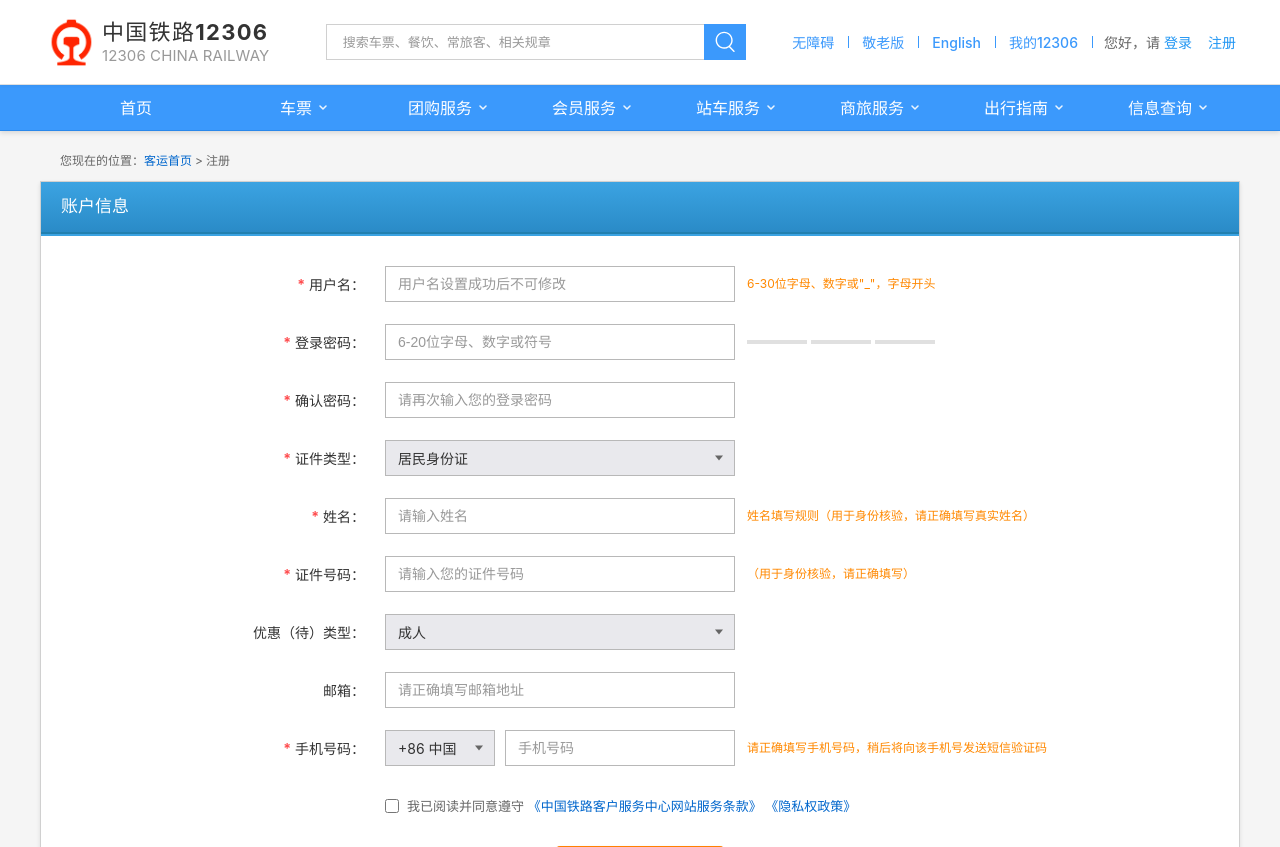
跨组件交互：注册表单验证流程 › 密码字段验证 (需求 3.2.2) › 应该在密码长度小于6位时显示错误提示
expect the text "账户信息" is shown: met, box [41,182,1239,234]
Type "123" into the password field with placeholder "6-20位字母、数字或符号".
click(560, 342); type("123")  # box [385,324,735,360]
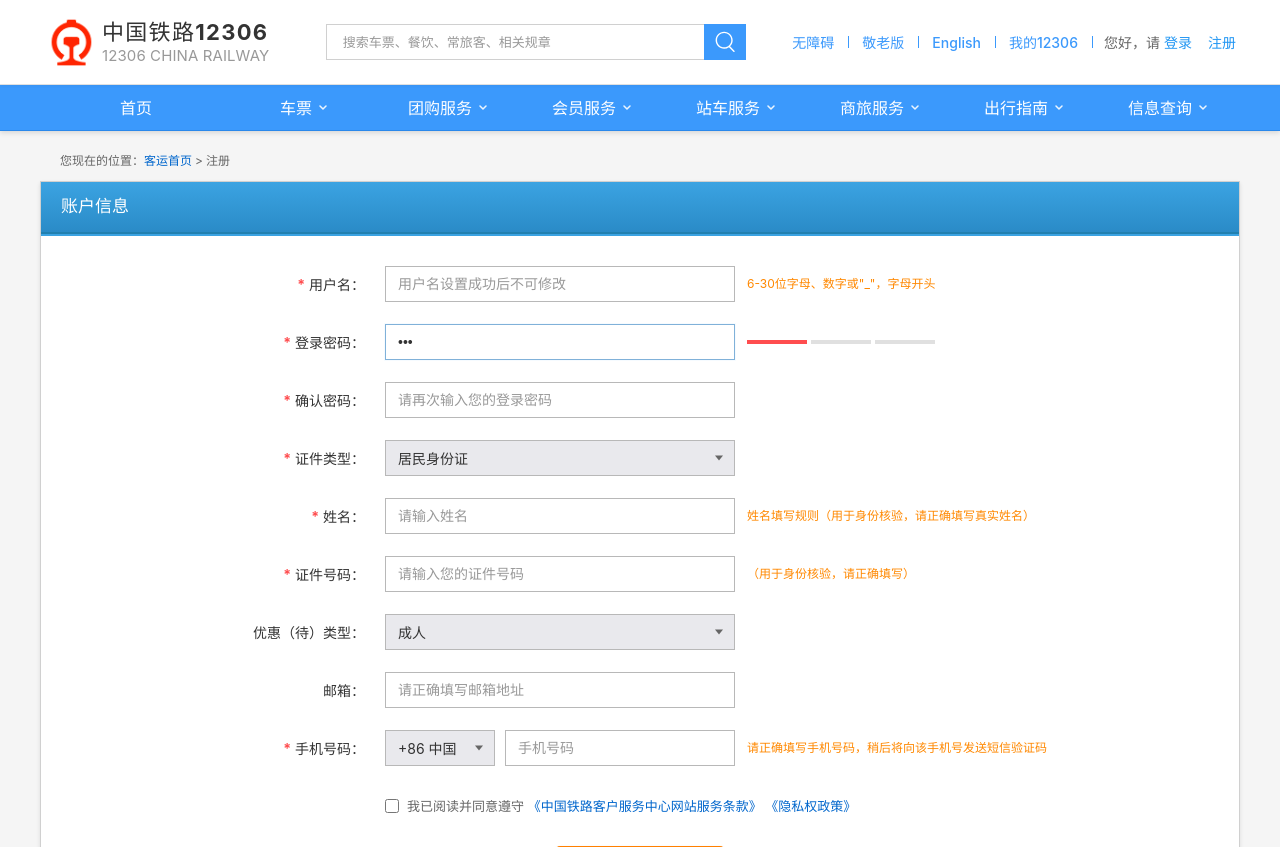
Press Tab
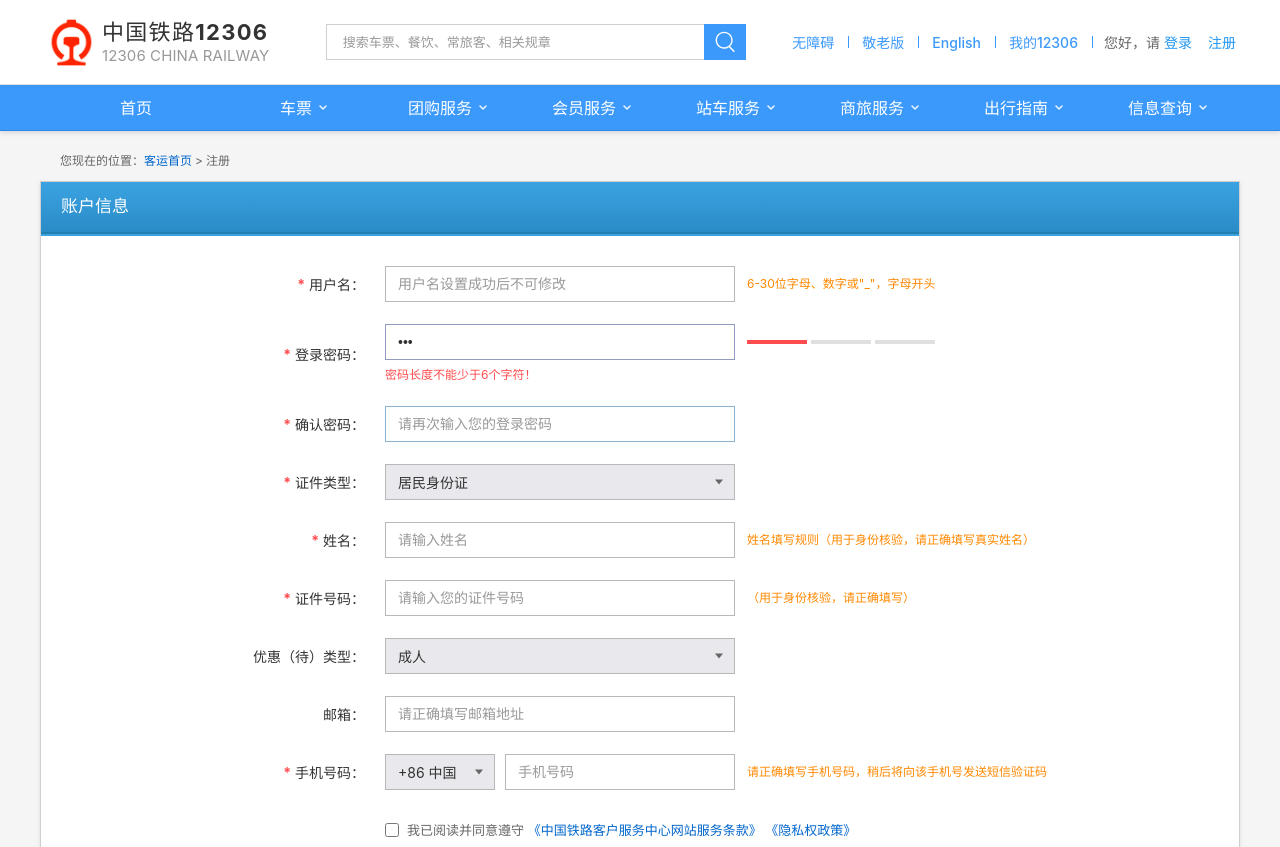
expect the text "密码长度不能少于6个字符！" is shown: met, box [385,366,536,382]
